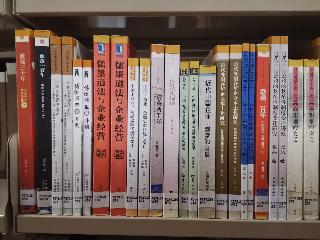book-spine: (14, 29, 36, 215), (106, 36, 128, 218), (90, 35, 111, 217), (33, 29, 52, 214), (197, 65, 219, 219), (146, 44, 165, 217), (162, 45, 181, 217), (253, 43, 271, 221), (226, 45, 243, 221), (285, 58, 303, 221), (124, 59, 142, 217), (215, 45, 230, 220), (303, 59, 319, 219), (136, 59, 152, 218), (59, 36, 73, 216), (48, 35, 62, 214), (79, 58, 94, 217), (70, 58, 83, 217), (269, 37, 280, 221), (277, 37, 288, 221), (187, 61, 199, 218), (178, 61, 189, 218), (240, 43, 249, 221), (247, 44, 256, 220)
